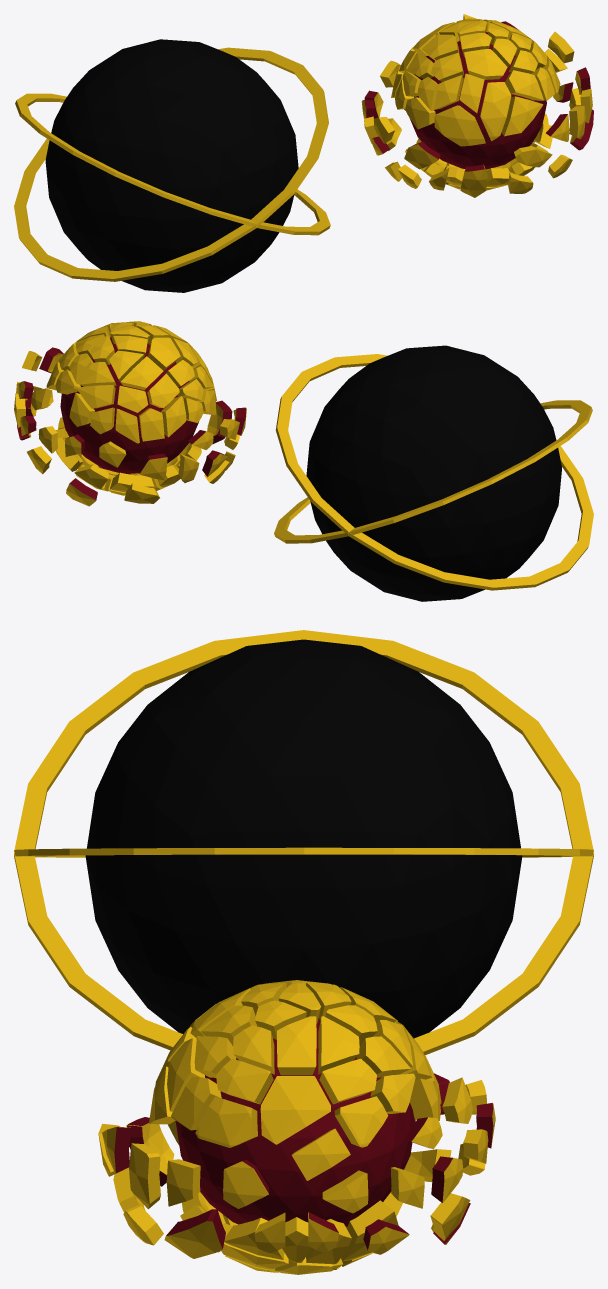
Rendered from Planet (3).fbx.
3 views of the same model, one above another, from view 1: azimuth 30°, elevation 25°; view 2: azimuth 150°, elevation 25°; view 3: azimuth 270°, elevation 25° (orthographic). The views are drawn at different scales.
Parts seen in each view (by area): view 1: Icosphere.007, Icosphere.003; view 2: Icosphere.007, Icosphere.003; view 3: Icosphere.007, Icosphere.003.
Boxes of the visible parts, bbox=[...] form: Icosphere.007: bbox=[14, 39, 330, 292]; Icosphere.003: bbox=[361, 14, 593, 197]; Icosphere.007: bbox=[274, 345, 593, 601]; Icosphere.003: bbox=[14, 321, 246, 506]; Icosphere.007: bbox=[14, 630, 593, 1054]; Icosphere.003: bbox=[98, 980, 495, 1274].
Bounding box in the file's own units: 4944 × 2035 × 2702.
